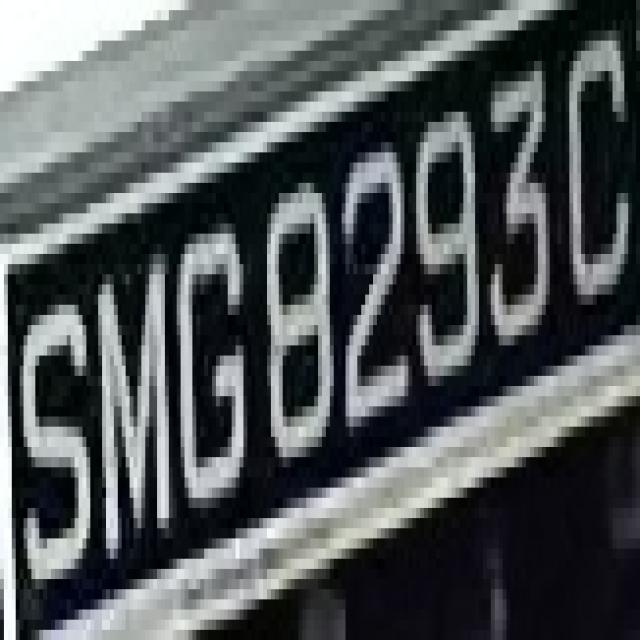2: (326, 122, 420, 457)
3: (479, 30, 554, 376)
8: (259, 172, 342, 478)
9: (393, 91, 479, 426)
C: (554, 20, 636, 325)
G: (169, 203, 247, 528)
M: (94, 223, 173, 569)
S: (20, 284, 90, 600)
